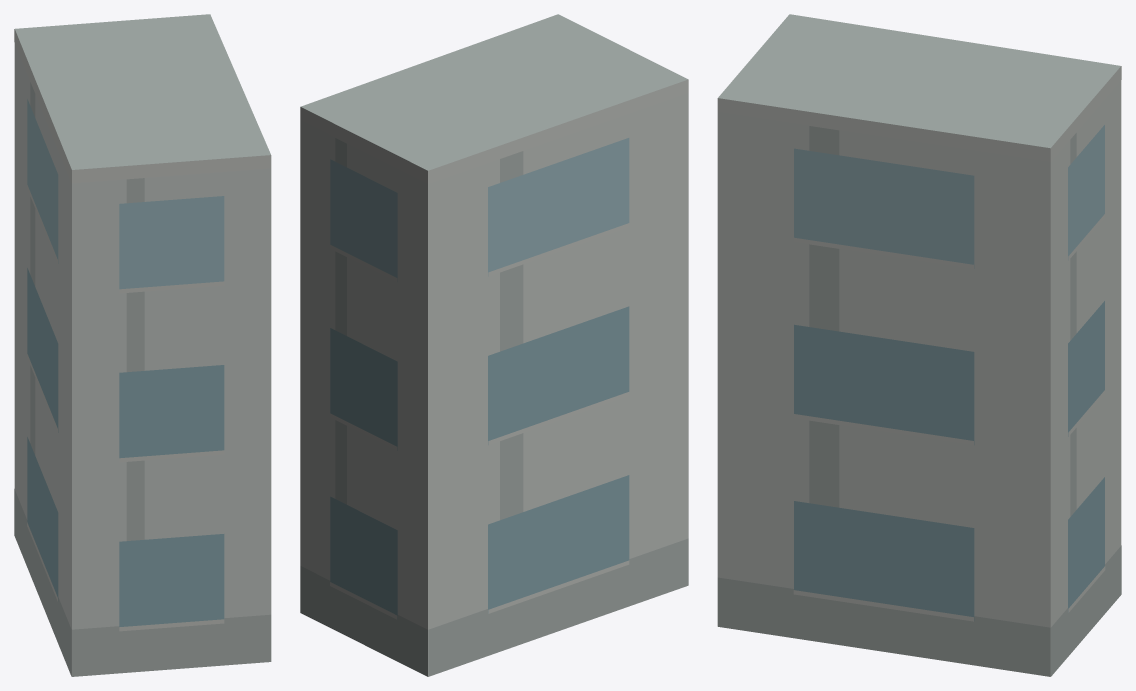
The model's file is survey-upis-32901143.glb.
3 renders of one model, left to right at view 1: azimuth 30°, elevation 25°; view 2: azimuth 150°, elevation 25°; view 3: azimuth 270°, elevation 25°, orthographic. The views are drawn at different scales.
Visible parts, largest first — view 1: survey-upis-32901143.tmp; view 2: survey-upis-32901143.tmp; view 3: survey-upis-32901143.tmp.
Part boxes in pixels (x1,y1,x2,y2): survey-upis-32901143.tmp: (14,14,271,676); survey-upis-32901143.tmp: (300,14,688,676); survey-upis-32901143.tmp: (717,14,1121,676).
Bounding box in the file's own units: 4.99 × 9.15 × 6.34.
